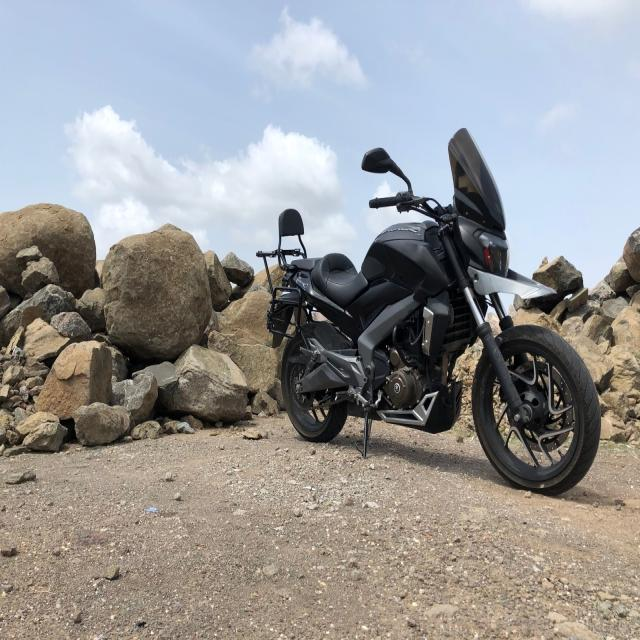motorcycle: (258, 128, 600, 493)
